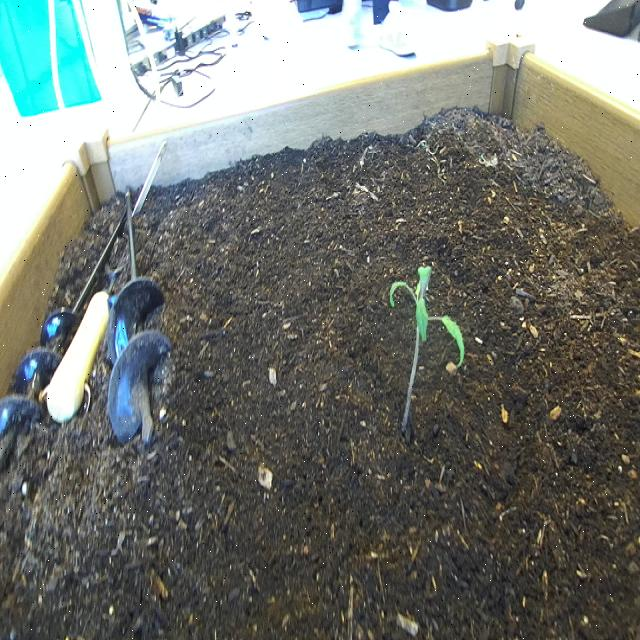Healthy: (386, 263, 466, 443)
